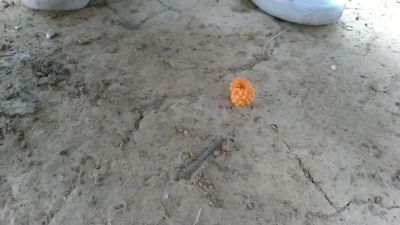eggs: (230, 75, 255, 109)
